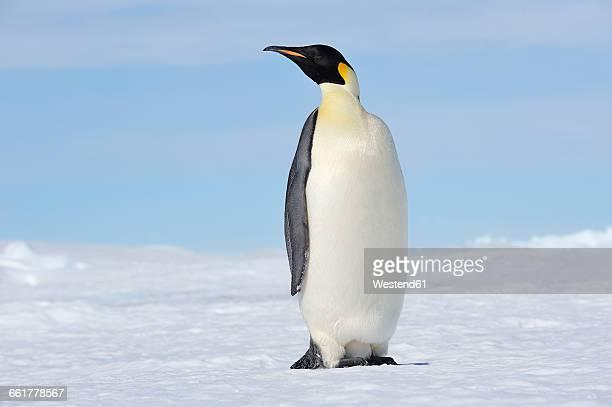emporer: (254, 30, 437, 378)
